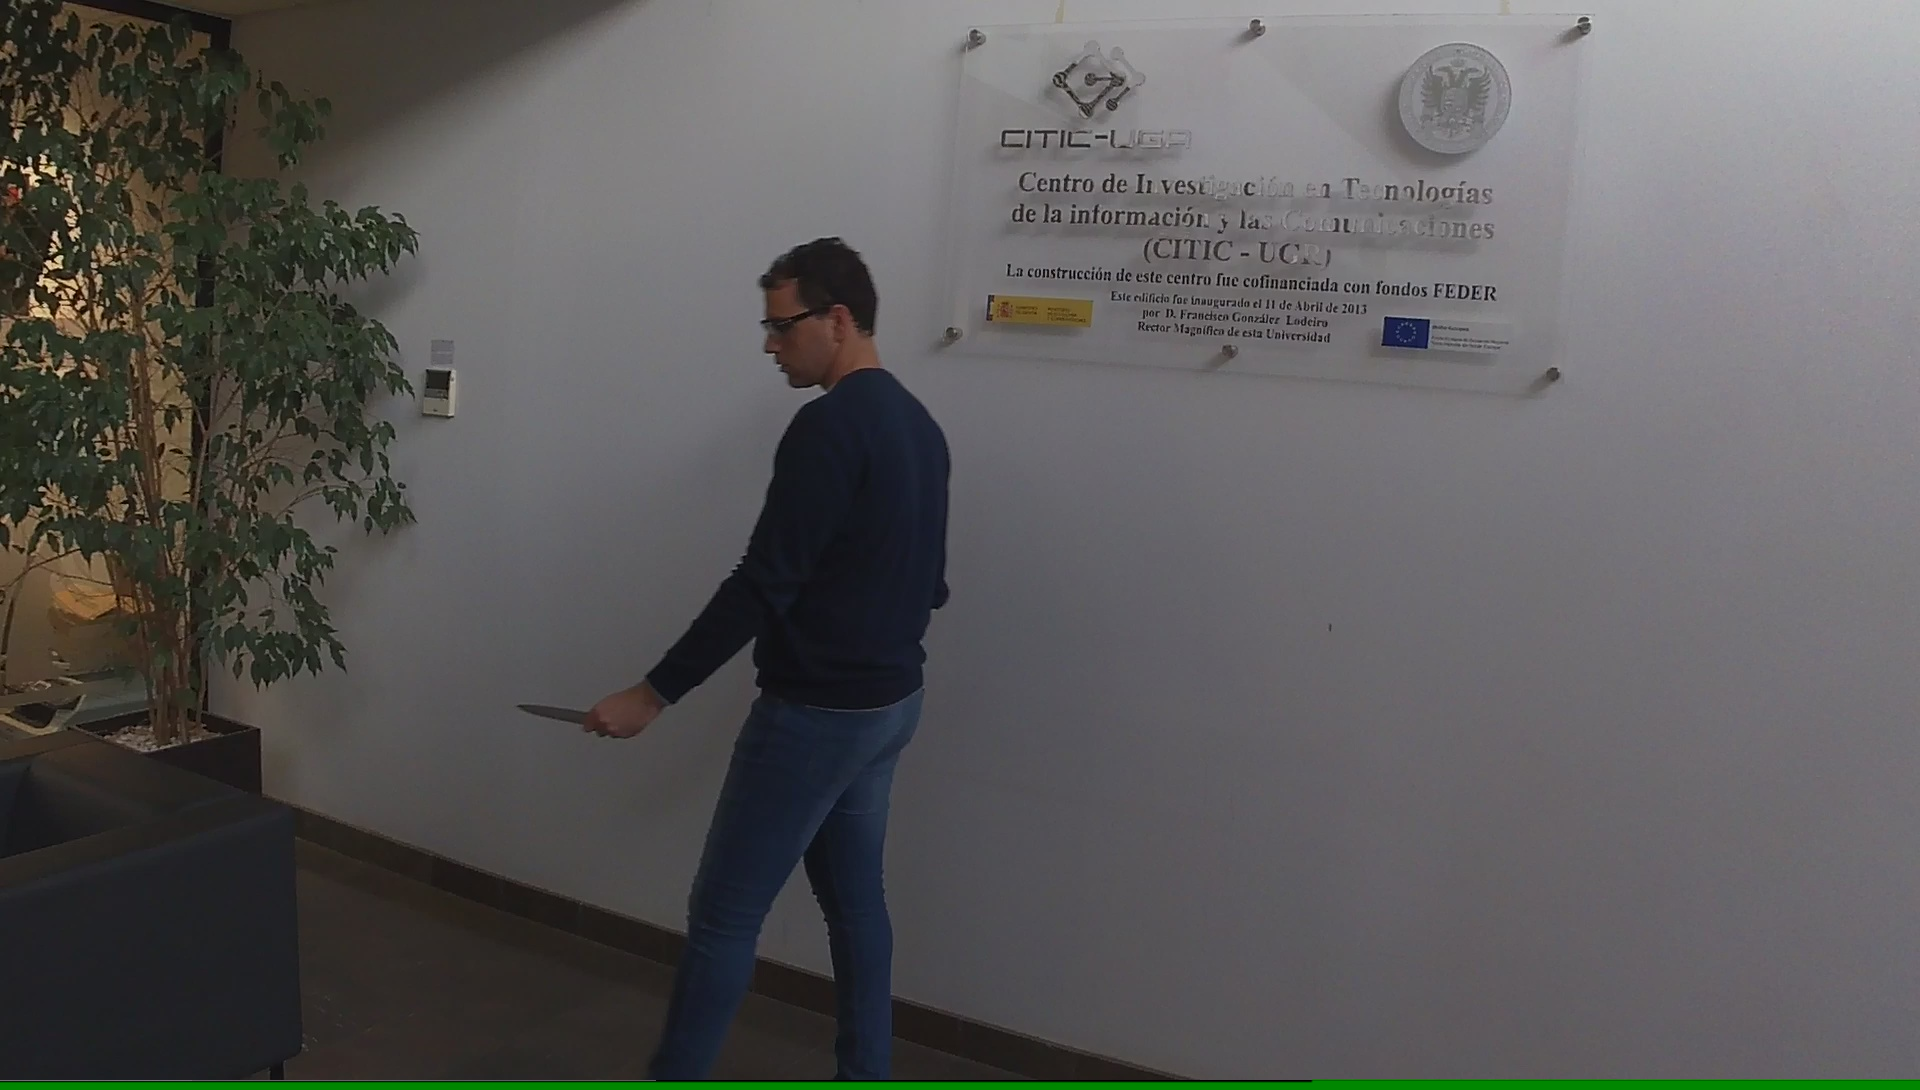knife: (502, 688, 624, 741)
